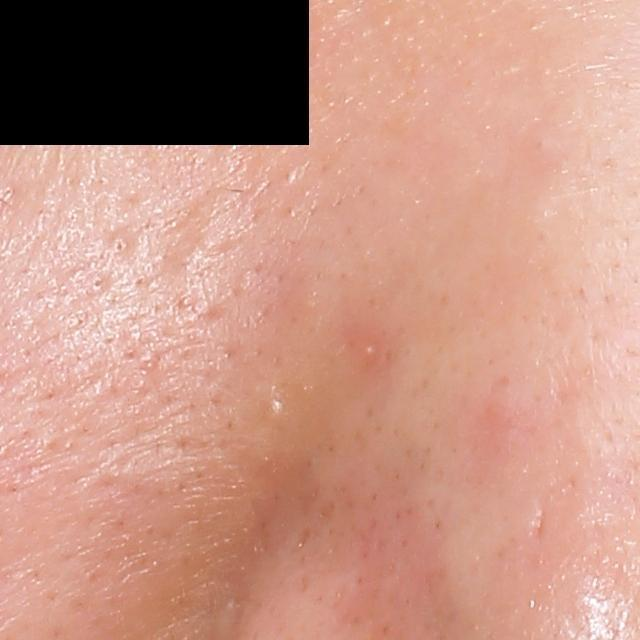atrophic_scar: (145, 190, 219, 283), (528, 474, 577, 552)
comedo: (110, 233, 131, 257), (88, 274, 105, 293), (361, 344, 377, 359)
